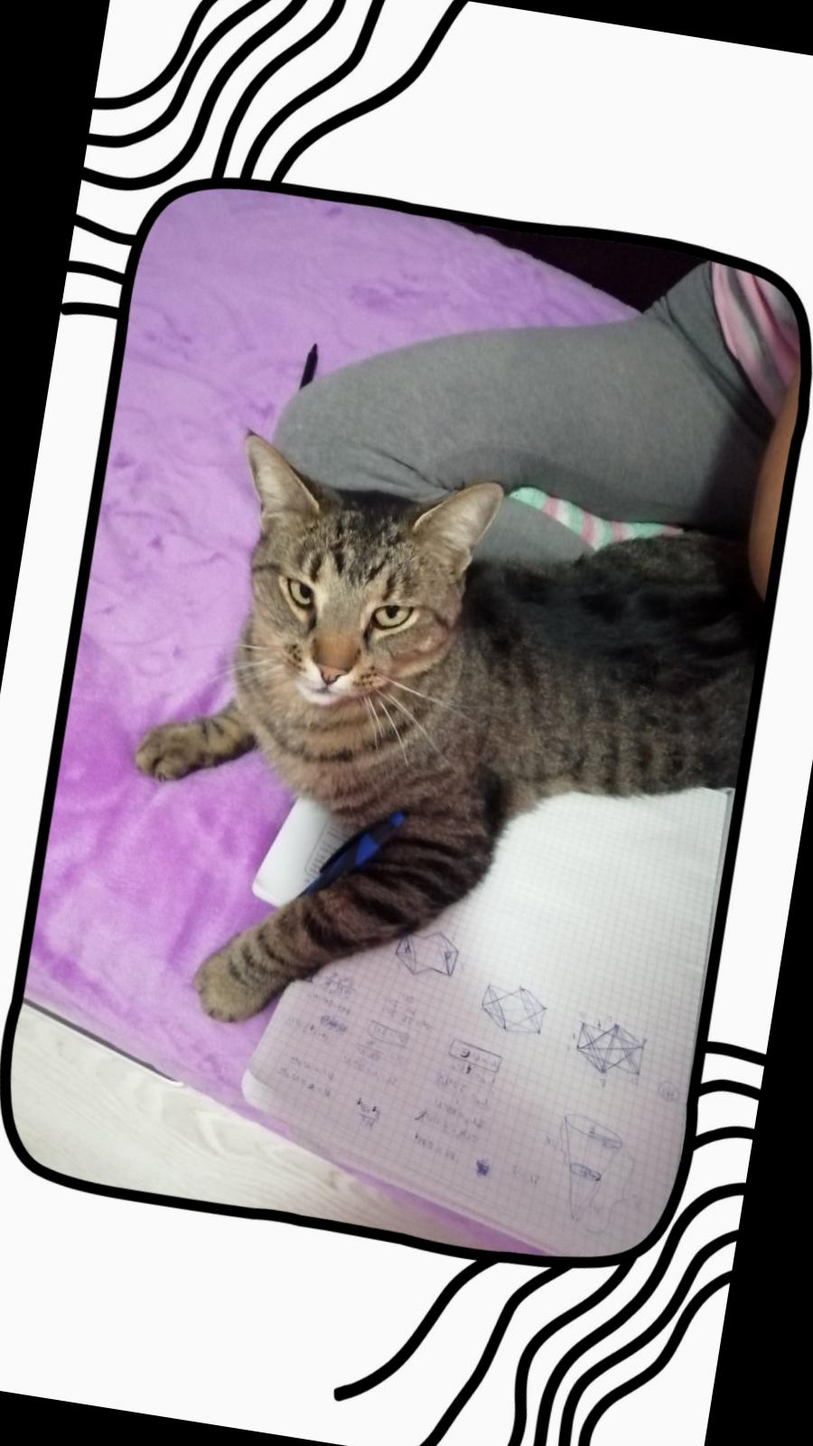macka: (98, 421, 788, 1096)
